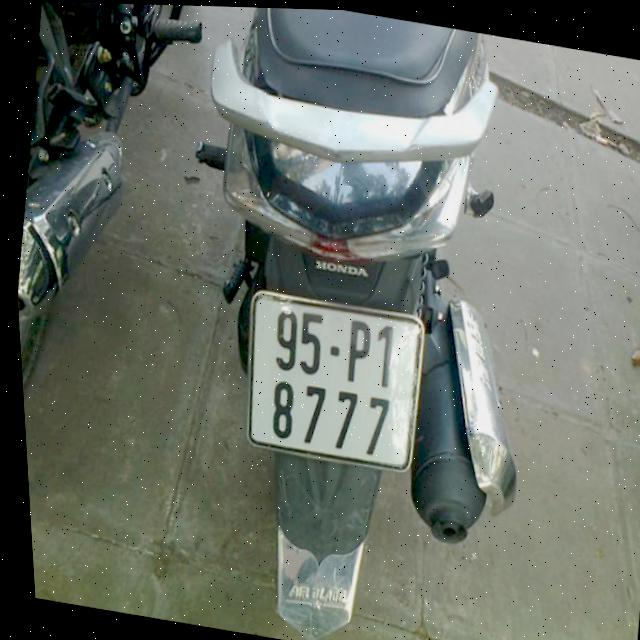motorcycle: (127, 4, 595, 640), (0, 0, 237, 458)
plate: (223, 279, 443, 481)
